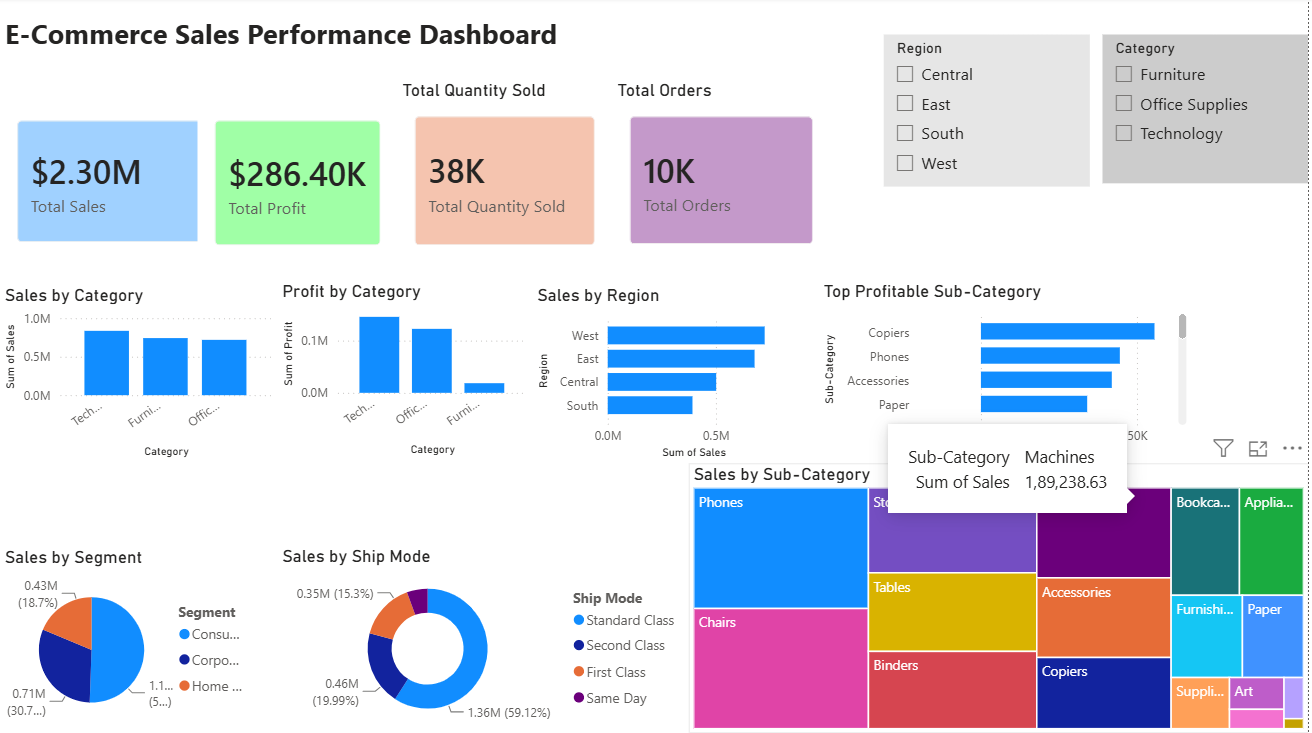

The dashboard page shown, as its layout file describes it:
{"tool":"powerbi","page":{"name":"Page 1","canvas":[1280,720],"ordinal":0},"visuals":[{"type":"cardVisual","fields":{"Data":["Sum(SampleSuperstore.Sales)"]},"box":[0,104.3,216.8,153.7],"z":0},{"type":"cardVisual","fields":{"Data":["Sum(SampleSuperstore.Profit)"]},"box":[193.5,104.3,196.2,156.4],"z":1000},{"type":"cardVisual","title":"Total Orders","fields":{"Data":["CountNonNull(SampleSuperstore.Sales)"]},"box":[569.5,81,214.1,178.4],"z":2000},{"type":"cardVisual","title":"Total Quantity Sold","fields":{"Data":["Sum(SampleSuperstore.Quantity)"]},"box":[373.2,81,209.9,179.8],"z":3000},{"type":"clusteredColumnChart","title":"Sales by Category","fields":{"Category":["SampleSuperstore.Category"],"Y":["Sum(SampleSuperstore.Sales)"]},"box":[0,281.3,271.7,174.3],"z":4000},{"type":"clusteredColumnChart","title":"Profit by Category","fields":{"Category":["SampleSuperstore.Category"],"Y":["Sum(SampleSuperstore.Profit)"]},"box":[271.7,277.2,249.7,175.6],"z":5000},{"type":"barChart","title":" Sales by Region","fields":{"Category":["SampleSuperstore.Region"],"Y":["Sum(SampleSuperstore.Sales)"]},"box":[521.4,281.3,262.1,175.6],"z":6000},{"type":"pieChart","title":"Sales by Segment","fields":{"Category":["SampleSuperstore.Segment"],"Y":["Sum(SampleSuperstore.Sales)"]},"box":[0,537.9,252.5,182.5],"z":7000},{"type":"slicer","fields":{"Values":["SampleSuperstore.Region"]},"box":[864.5,36.7,201.8,149.2],"z":8000},{"type":"slicer","fields":{"Values":["SampleSuperstore.Category"]},"box":[1078.5,36.7,201.8,145.5],"z":9000},{"type":"donutChart","title":" Sales by Ship Mode","fields":{"Category":["SampleSuperstore.Ship Mode"],"Y":["Sum(SampleSuperstore.Sales)"]},"box":[271.7,536.5,402.1,182.5],"z":10000},{"type":"barChart","title":"Top Profitable Sub-Category","fields":{"Category":["SampleSuperstore.Sub-Category"],"Y":["Sum(SampleSuperstore.Profit)"]},"box":[801.4,277.2,365,170.2],"z":11000},{"type":"treemap","title":" Sales by Sub-Category","fields":{"Values":["Sum(SampleSuperstore.Sales)"],"Group":["SampleSuperstore.Sub-Category"]},"box":[673.8,455.6,606.5,264.8],"z":12000},{"type":"textbox","box":[0,12.3,583.2,64.5],"z":12001}]}

Visuals, with their boxes in screenshot pixels (x1, y1, x2, y2), scaled from the page's 1280x720 canvas onto the 1312x733 screenshot:
cardVisual - Sum(SampleSuperstore.Sales): select_region(0, 106, 222, 263)
cardVisual - Sum(SampleSuperstore.Profit): select_region(198, 106, 399, 265)
"Total Orders" cardVisual: select_region(584, 82, 803, 264)
"Total Quantity Sold" cardVisual: select_region(383, 82, 598, 266)
"Sales by Category" clusteredColumnChart: select_region(0, 286, 278, 464)
"Profit by Category" clusteredColumnChart: select_region(278, 282, 534, 461)
" Sales by Region" barChart: select_region(534, 286, 803, 465)
"Sales by Segment" pieChart: select_region(0, 548, 259, 732)
slicer - SampleSuperstore.Region: select_region(886, 37, 1093, 189)
slicer - SampleSuperstore.Category: select_region(1105, 37, 1311, 185)
" Sales by Ship Mode" donutChart: select_region(278, 546, 691, 732)
"Top Profitable Sub-Category" barChart: select_region(821, 282, 1196, 455)
" Sales by Sub-Category" treemap: select_region(691, 464, 1311, 732)
textbox: select_region(0, 13, 598, 78)
